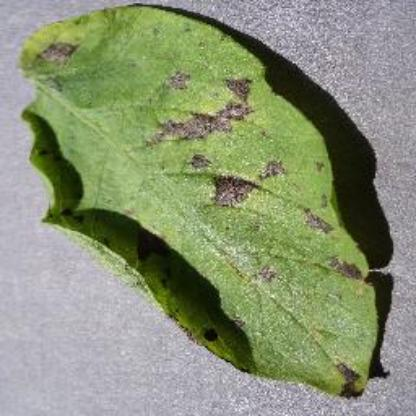Early-Blight: (12, 4, 400, 398)
